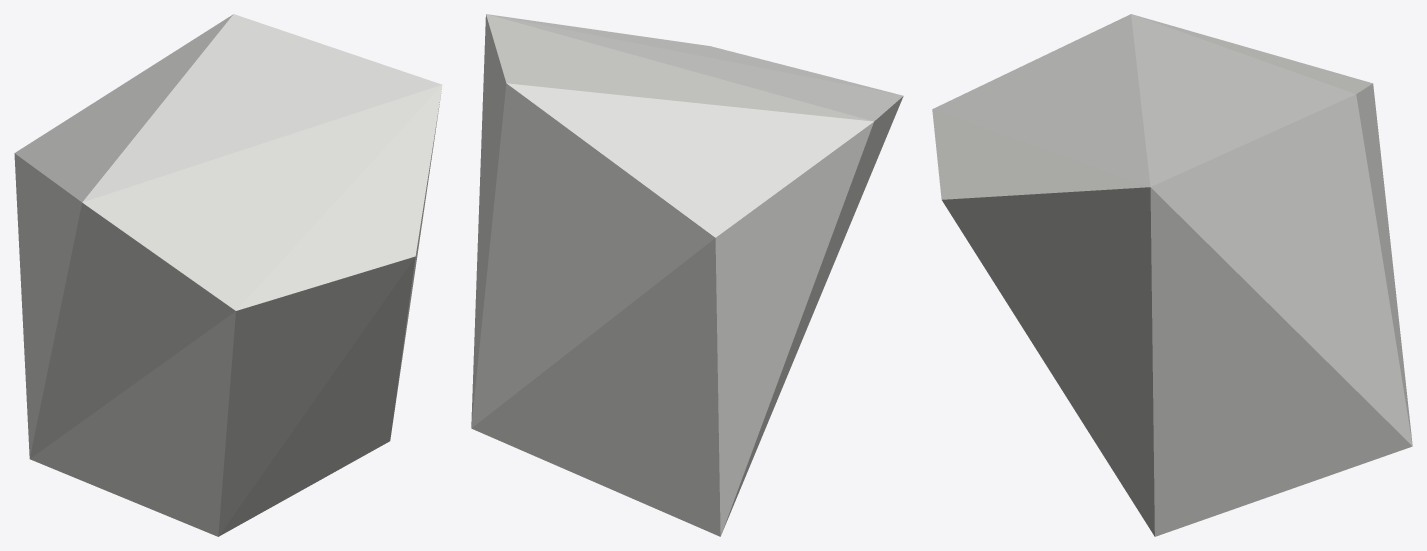
File: YN_SkullTeeth3.fbx
3 views of the same model, side by side, from view 1: azimuth 30°, elevation 25°; view 2: azimuth 150°, elevation 25°; view 3: azimuth 270°, elevation 25° (orthographic). The views are drawn at different scales.
Parts seen in each view (by area): view 1: YN_SkullTeeth3; view 2: YN_SkullTeeth3; view 3: YN_SkullTeeth3.
Part boxes in pixels (bbox=[...]): YN_SkullTeeth3: bbox=[14, 14, 442, 536]; YN_SkullTeeth3: bbox=[471, 14, 903, 536]; YN_SkullTeeth3: bbox=[932, 14, 1412, 536].
Size of the model in its own units: 0.4536 by 0.4972 by 0.4693.
